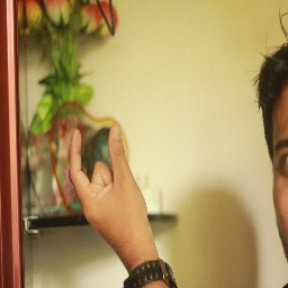U: (60, 121, 155, 239)
